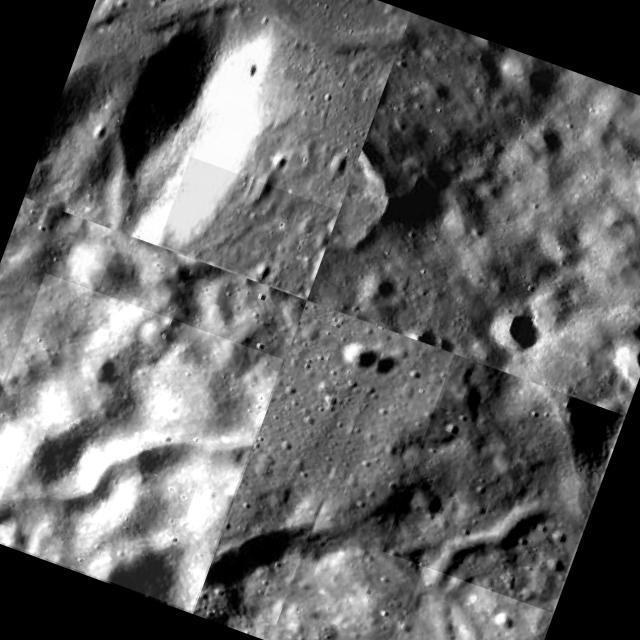rille: (306, 31, 602, 371), (0, 273, 283, 612), (56, 0, 408, 210), (383, 354, 624, 612), (158, 73, 367, 298), (382, 470, 579, 640)
